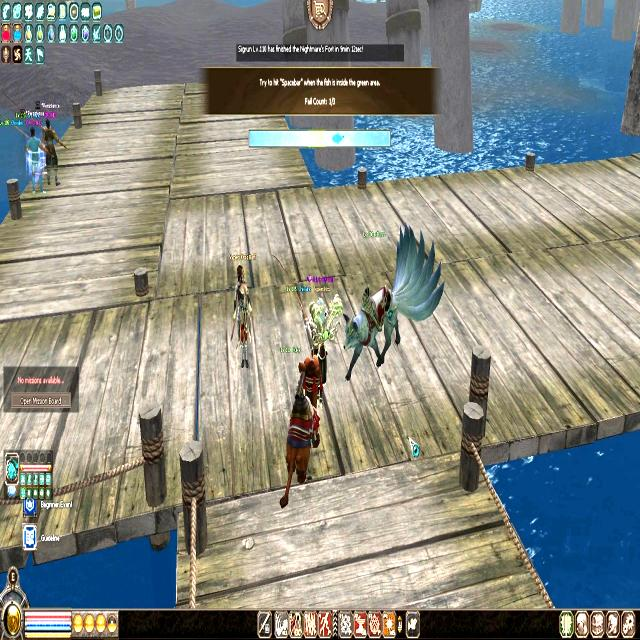box: (308, 133, 326, 148)
